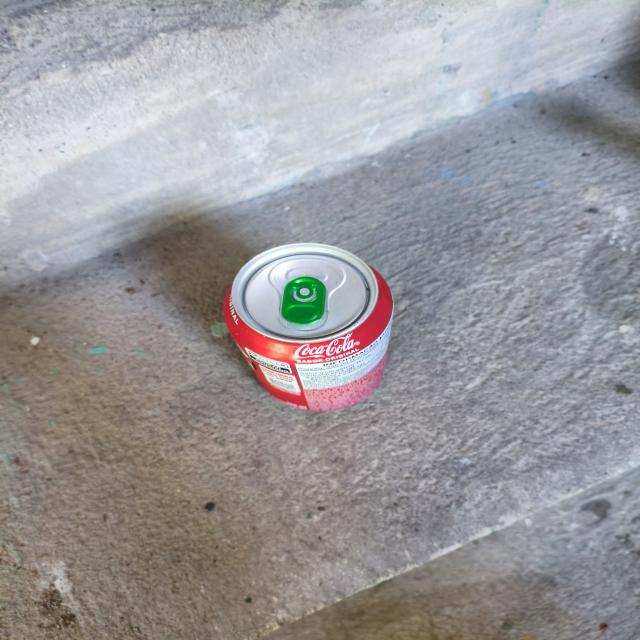Coca Cola: (242, 220, 372, 473)
